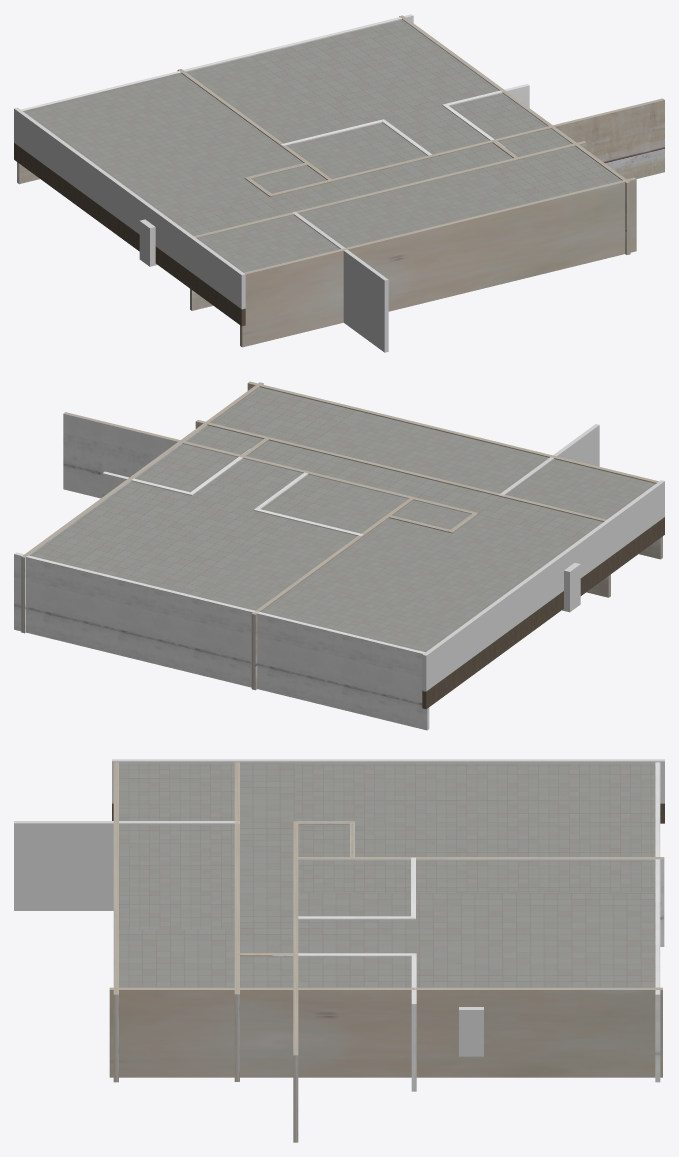
Rendered from Diner Subdivided.fbx.
3 renders of one model, top to bottom at view 1: azimuth 30°, elevation 25°; view 2: azimuth 150°, elevation 25°; view 3: azimuth 270°, elevation 25°, orthographic. The views are drawn at different scales.
Parts seen in each view (by area): view 1: Cieling, Wall.001, Glass, Wall.004, Lower Wall, Wall.005, Wall.003, Wall, Wall.002, Wall.007, Player/ Door Reference.002, Wall.012; view 2: Cieling, Wall, Glass, Wall.004, Lower Wall, Wall.001, Wall.003, Wall.002, Wall.005, Wall.007, Player/ Door Reference.002, Wall.012; view 3: Cieling, Wall.002, Wall.005, Glass, Wall.001, Wall.004, Wall.003, Wall, Wall.007, Player/ Door Reference.006, Wall.012.
Boxes of the visible parts, x1,y1,x2,y2 form: Cieling: (24, 19, 621, 272); Wall.001: (240, 177, 636, 347); Glass: (14, 107, 245, 309); Wall.004: (268, 98, 664, 196); Lower Wall: (14, 143, 245, 326); Wall.005: (293, 212, 388, 352); Wall.003: (190, 141, 586, 310); Wall: (17, 14, 413, 184); Wall.002: (399, 15, 630, 254); Wall.007: (177, 69, 331, 179); Player/ Door Reference.002: (139, 219, 157, 266); Wall.012: (446, 84, 529, 107); Cieling: (30, 387, 655, 652); Wall: (14, 552, 429, 730); Glass: (422, 480, 664, 691); Wall.004: (63, 412, 478, 514); Lower Wall: (422, 517, 664, 709); Wall.001: (247, 381, 662, 559); Wall.003: (195, 420, 610, 597); Wall.002: (21, 382, 263, 633); Wall.005: (499, 424, 599, 495); Wall.007: (251, 498, 413, 690); Player/ Door Reference.002: (562, 563, 580, 612); Wall.012: (102, 471, 189, 496); Cieling: (119, 763, 655, 987); Wall.002: (109, 987, 662, 1077); Wall.005: (14, 821, 239, 910); Glass: (112, 759, 664, 803); Wall.001: (113, 762, 118, 1082); Wall.004: (293, 821, 298, 1142); Wall.003: (234, 762, 239, 1081); Wall: (655, 762, 660, 1082); Wall.007: (298, 857, 664, 946); Player/ Door Reference.006: (459, 1007, 483, 1056); Wall.012: (411, 955, 416, 1091).
Size of the model in its own units: 6185 by 857 by 5705.
